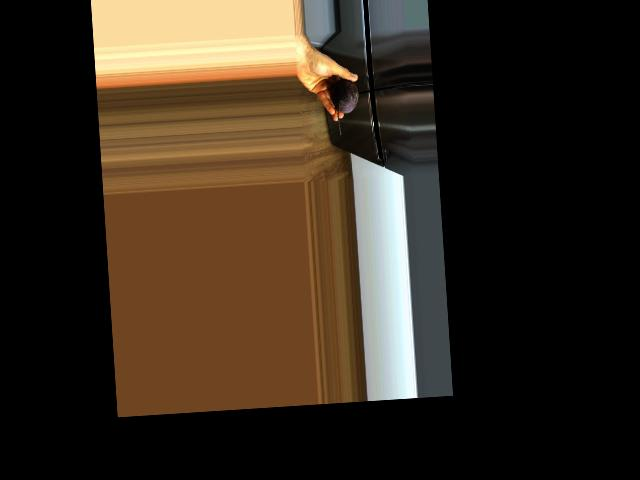beet: (331, 78, 361, 136)
